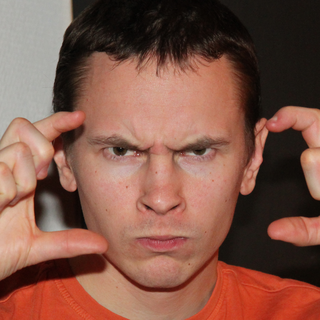eye: (95, 136, 145, 163), (175, 141, 219, 163)
